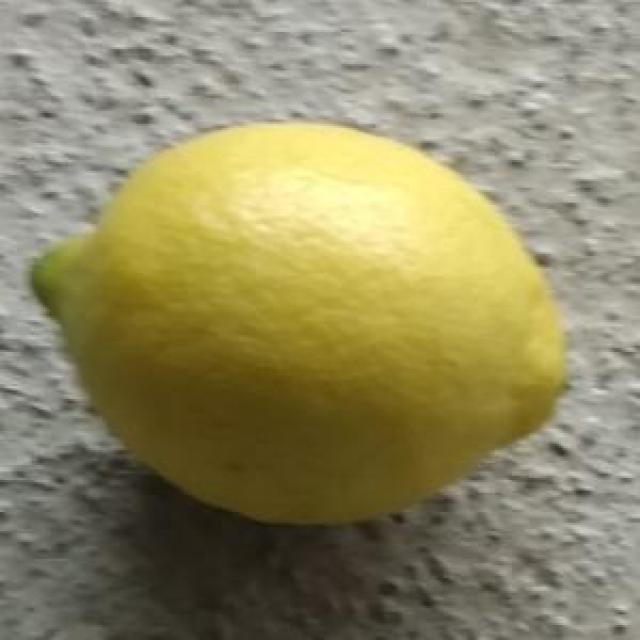lemon: (26, 124, 572, 531)
